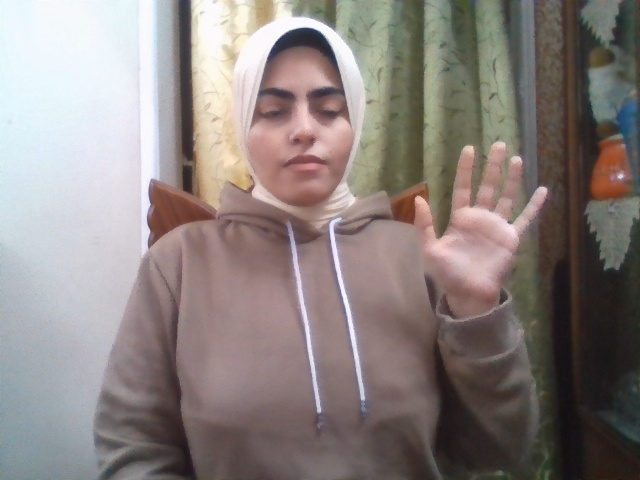hello: (413, 141, 549, 302)
